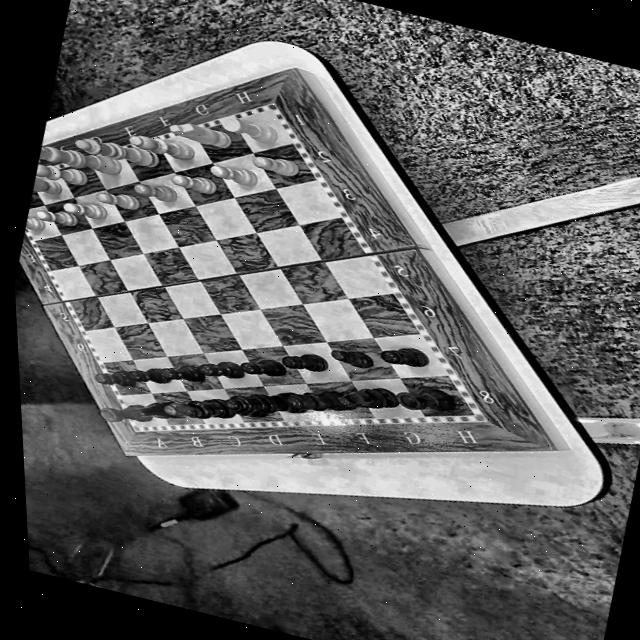chessboard: (25, 109, 472, 425)
